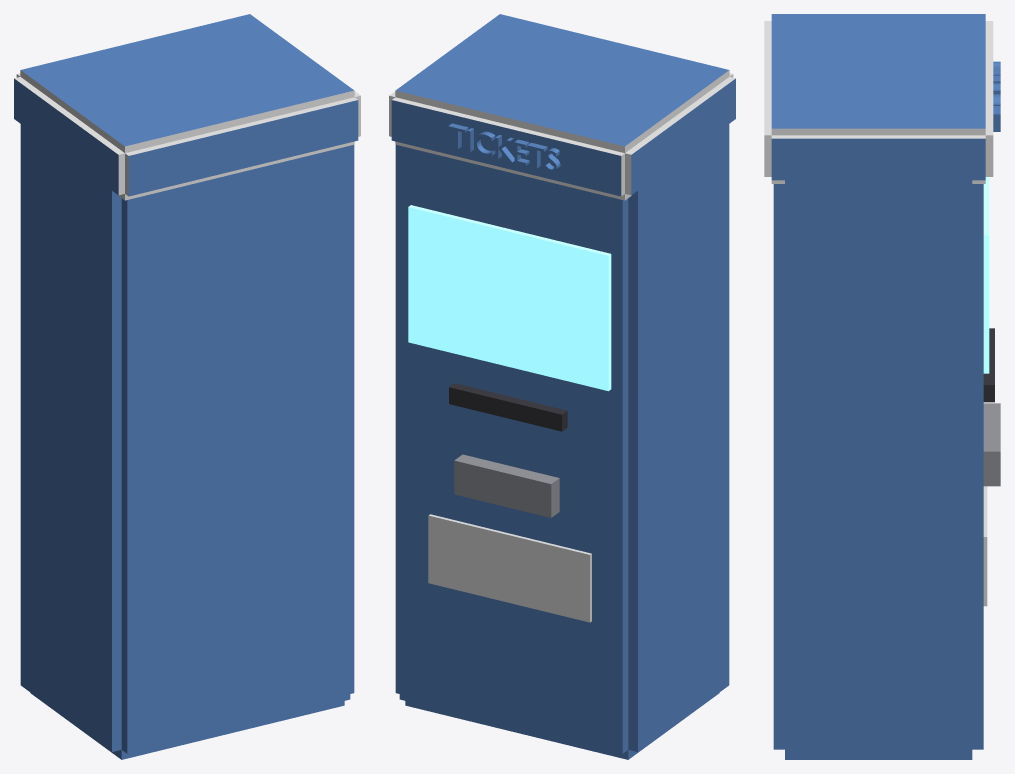
File: ticket_machine.glb
3 renders of one model, left to right at view 1: azimuth 30°, elevation 25°; view 2: azimuth 150°, elevation 25°; view 3: azimuth 270°, elevation 25°, orthographic. The views are drawn at different scales.
Parts seen in each view (by area): view 1: ticket_machine; view 2: ticket_machine; view 3: ticket_machine.
Boxes of the visible parts, x1=… form: ticket_machine: x1=14, y1=14, x2=360, y2=759; ticket_machine: x1=389, y1=14, x2=735, y2=759; ticket_machine: x1=764, y1=14, x2=1000, y2=759.
Bounding box in the file's own units: 0.75 × 1.83 × 0.62.
